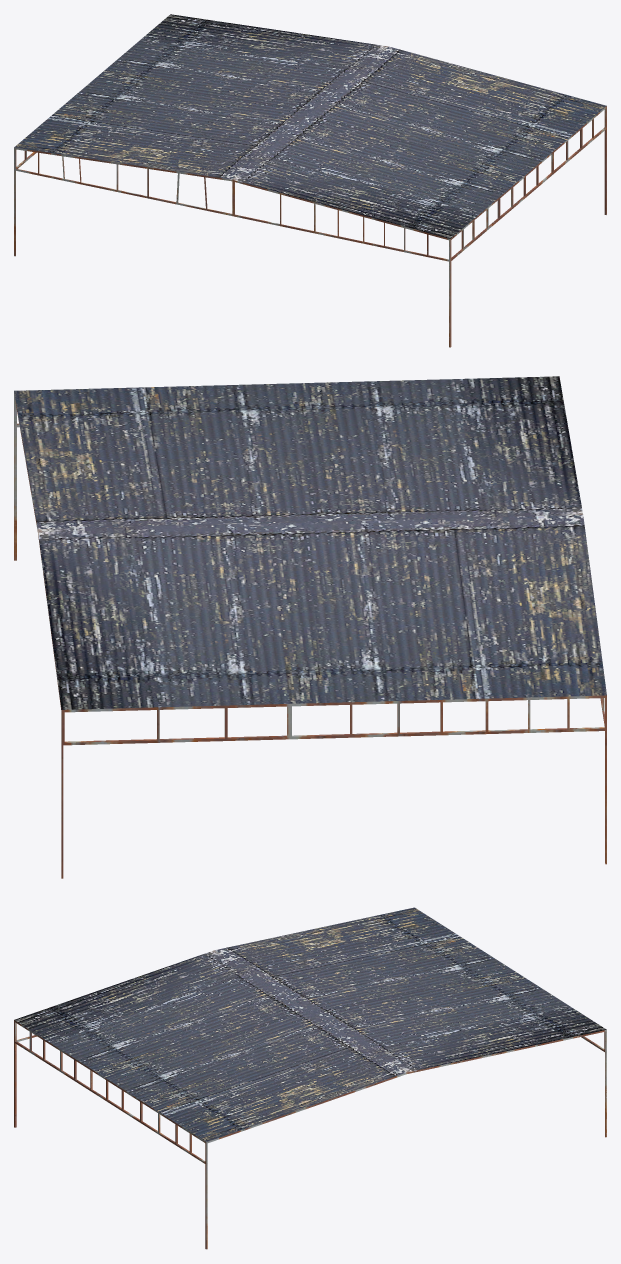
The model's file is llmg_bld6.gltf.
3 renders of one model, top to bottom at view 1: azimuth 30°, elevation 25°; view 2: azimuth 150°, elevation 25°; view 3: azimuth 270°, elevation 25°, orthographic. The views are drawn at different scales.
Parts seen in each view (by area): view 1: node1; view 2: node1; view 3: node1.
Part boxes in pixels (left/top/right/bottom): node1: left=14, top=14, right=606, bottom=347; node1: left=14, top=376, right=606, bottom=878; node1: left=14, top=907, right=606, bottom=1249.
Size of the model in its own units: 15.4 by 3.69 by 16.43.
